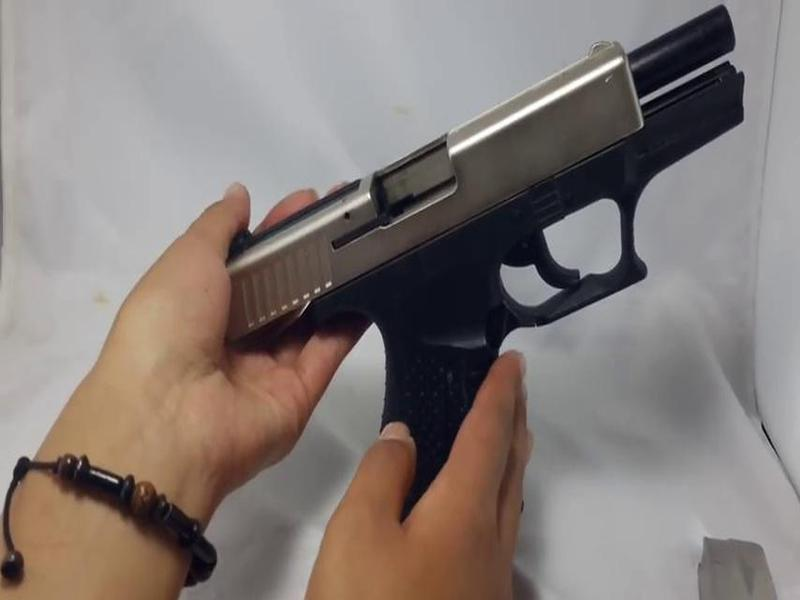Pistola: (209, 1, 766, 529)
